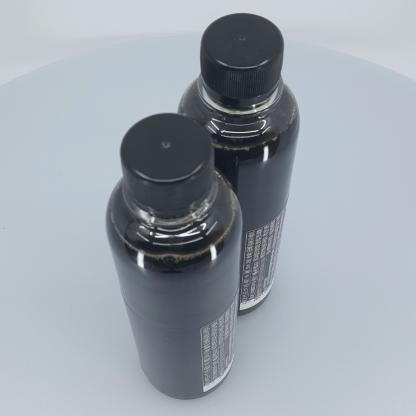--------------300ML: (105, 112, 243, 400), (177, 12, 300, 317)
